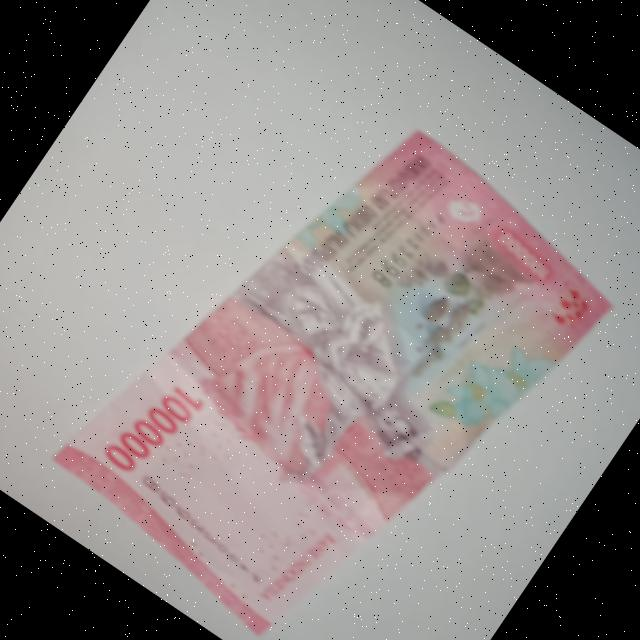100K: (25, 47, 640, 640)
